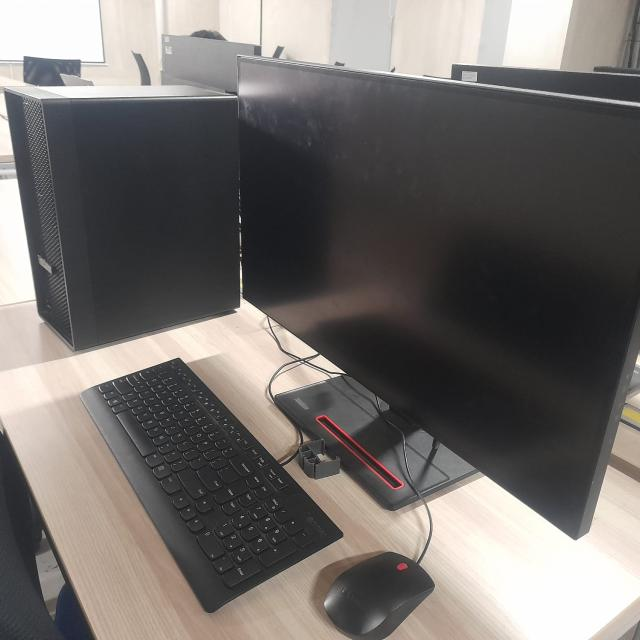keyboard: (80, 357, 344, 614)
monitor: (237, 54, 640, 541)
mouse: (323, 552, 435, 640)
pc: (2, 84, 240, 352)
